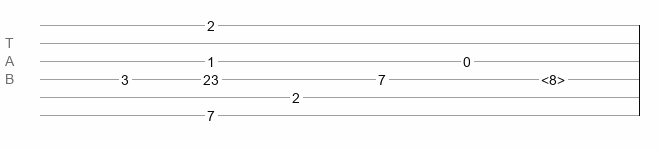0: (463, 54, 471, 64)
1: (207, 54, 215, 64)
2: (207, 18, 215, 28), (292, 90, 300, 100)
23: (203, 72, 219, 82)
3: (121, 72, 129, 82)
7: (207, 108, 215, 118), (378, 72, 386, 82)
harmonic: (541, 72, 565, 82)
